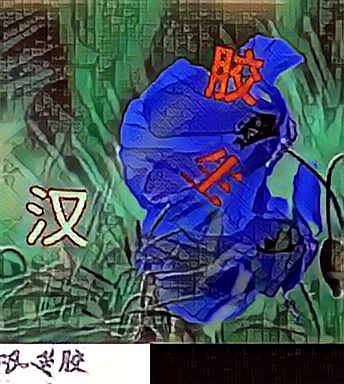BABA: (25, 183, 88, 249)
BDBA: (201, 41, 264, 107)
C9FA: (179, 140, 242, 206)
